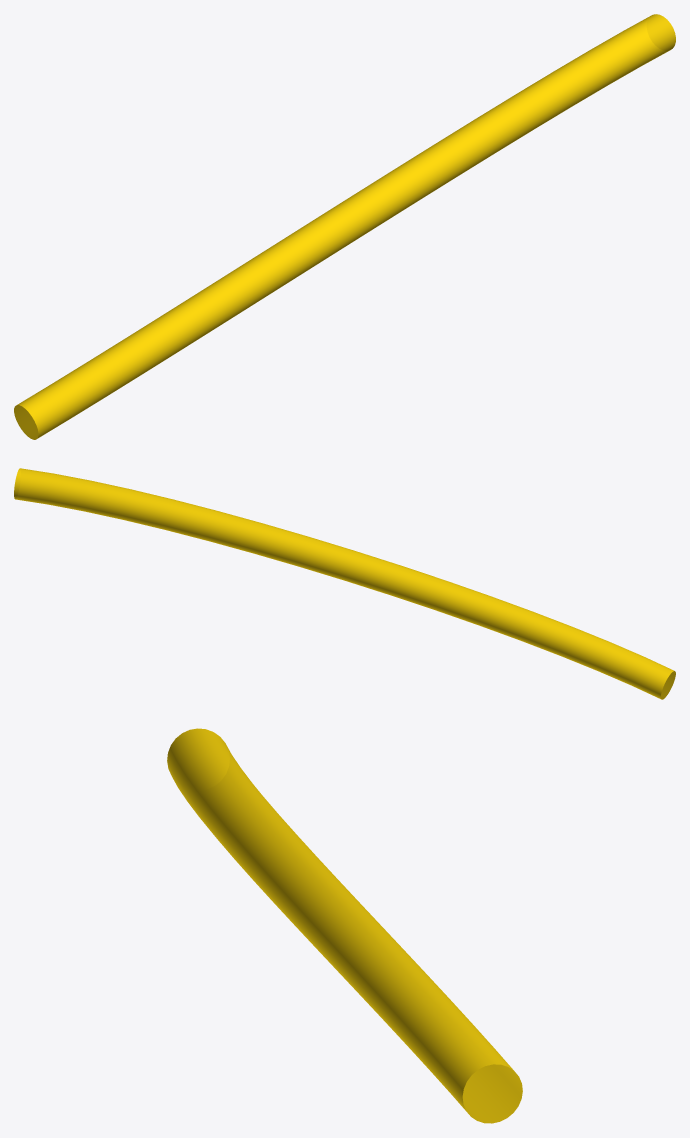
Rendered from Event_421115418_track_110.fbx.
3 renders of one model, top to bottom at view 1: azimuth 30°, elevation 25°; view 2: azimuth 150°, elevation 25°; view 3: azimuth 270°, elevation 25°, orthographic. The views are drawn at different scales.
Parts seen in each view (by area): view 1: Model; view 2: Model; view 3: Model.
Part boxes in pixels (<box>): Model: <box>14,14,675,439</box>; Model: <box>14,468,675,699</box>; Model: <box>167,728,522,1123</box>.
Size of the model in its own units: 0.8558 by 0.1992 by 0.2253.
